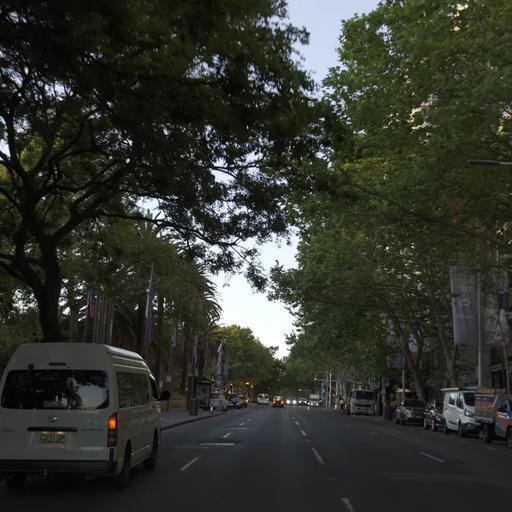Street light: (466, 154, 511, 395), (466, 157, 511, 167)
